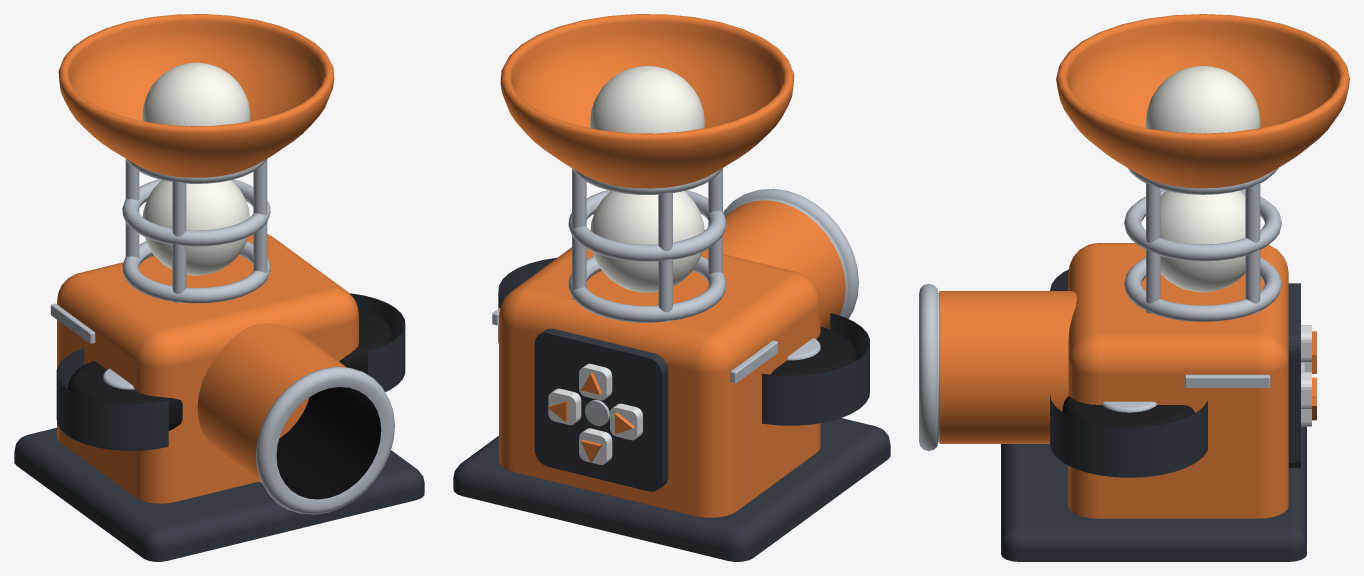
Rendered from pitching_machine.obj.
3 renders of one model, left to right at view 1: azimuth 30°, elevation 25°; view 2: azimuth 150°, elevation 25°; view 3: azimuth 270°, elevation 25°, orthographic. The views are drawn at different scales.
Size of the model in its own units: 0.66 by 0.754 by 0.704.
